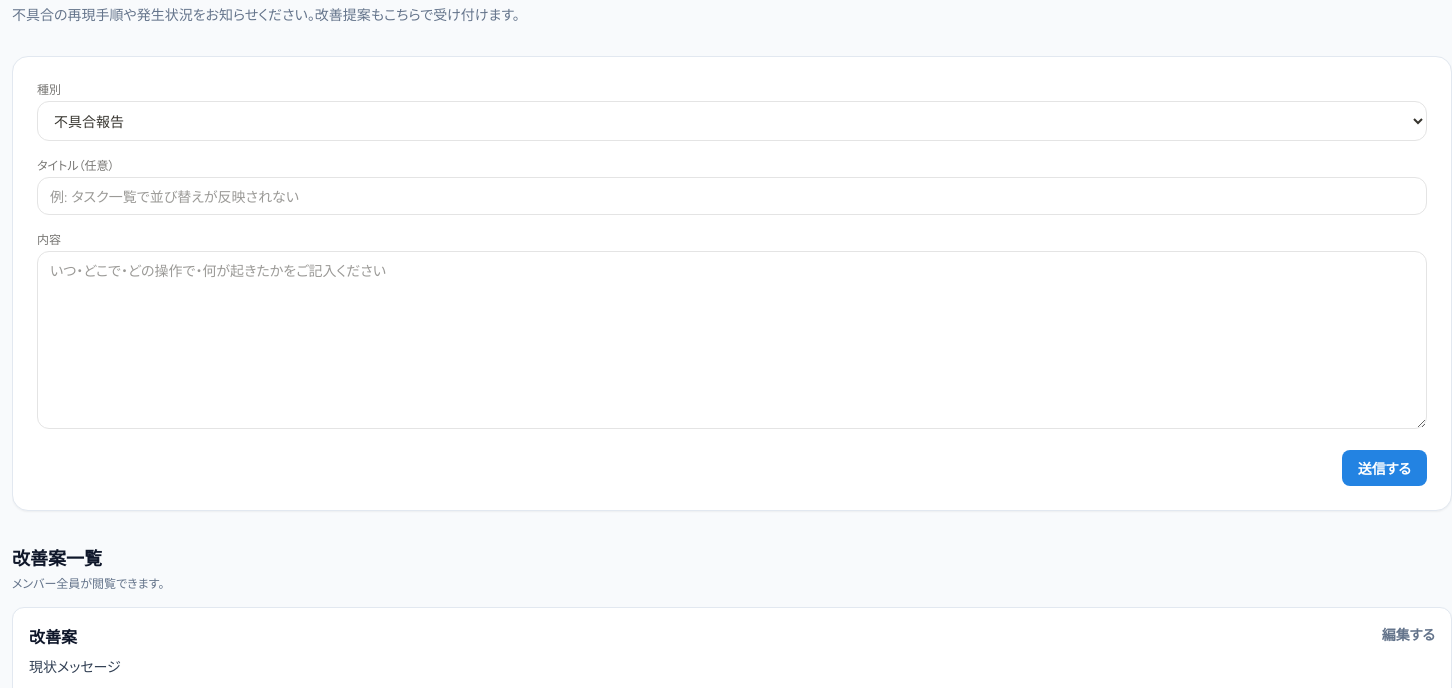
Test: フィードバックページ › 改善案を編集して保存すると一覧に反映される
Click the button "編集する": (1408, 634) left=1382, top=624, right=1435, bottom=644
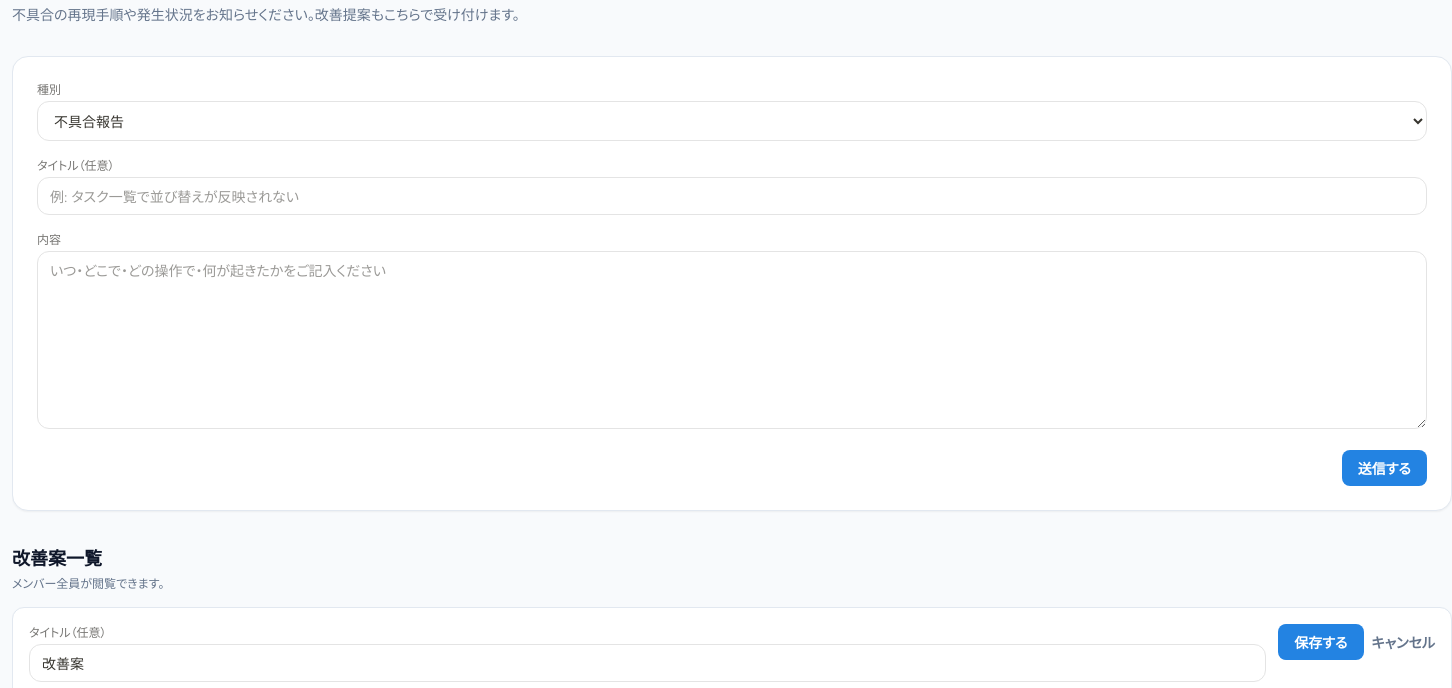
Replace the text in the field labelled "タイトル（任意）" below "メンバー全員が閲覧できます。" with "更新タイトル": (648, 663) left=29, top=644, right=1266, bottom=682
(page scrolled)
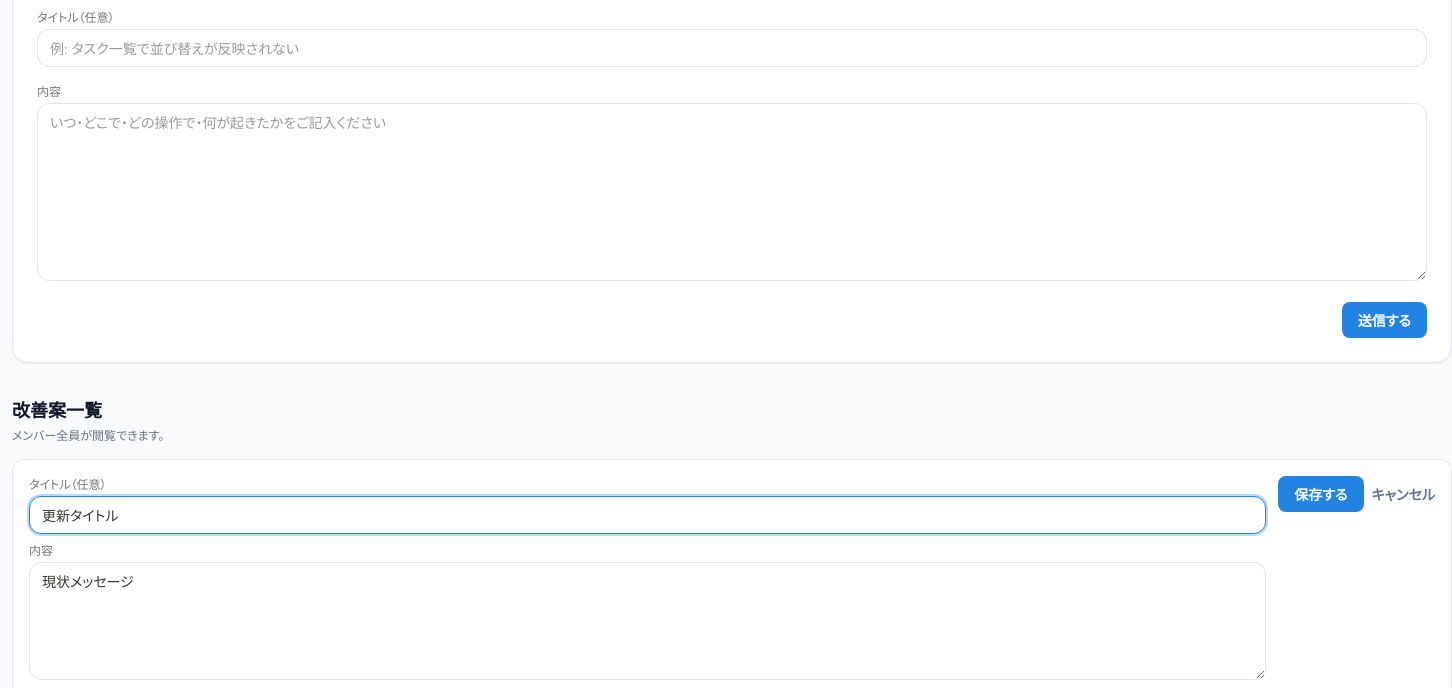
Replace the text in the text box labelled "内容" below "メンバー全員が閲覧できます。" with "更新後メッセージ": (648, 621) left=29, top=562, right=1266, bottom=680
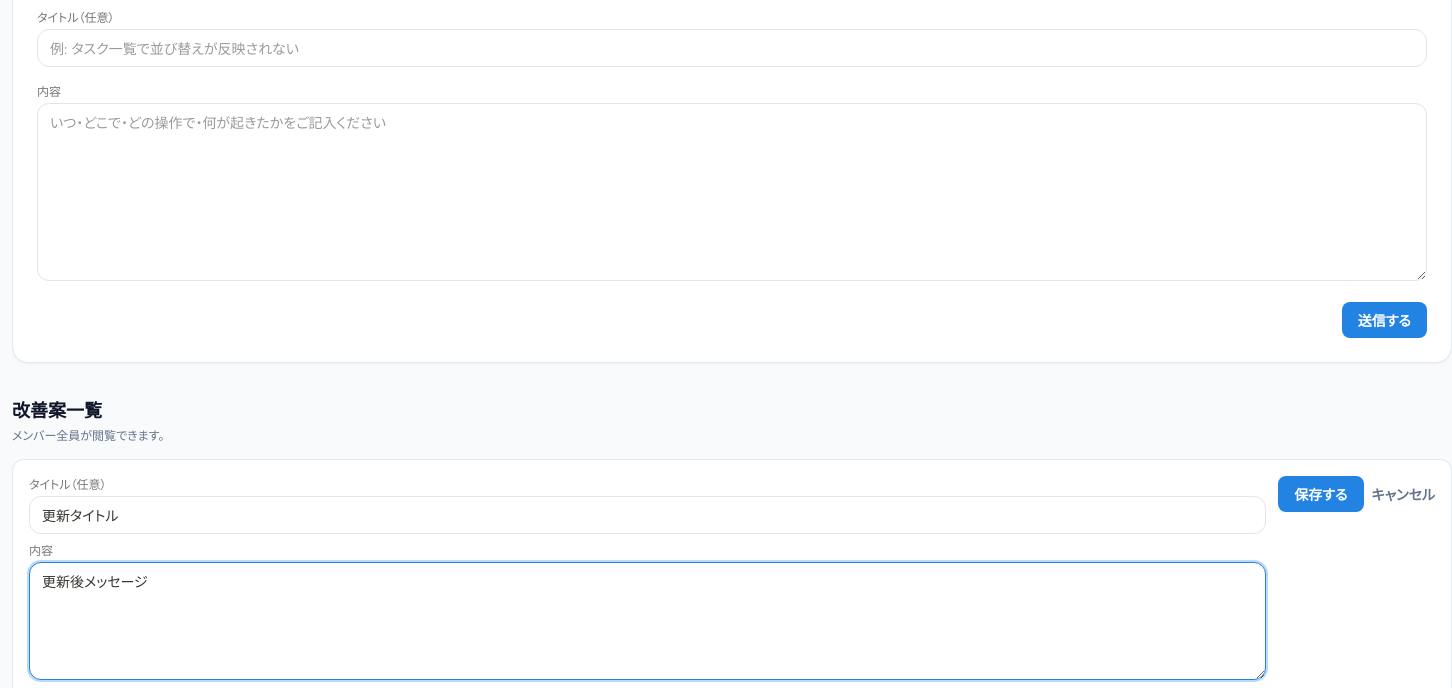
Click the button "保存する": (1321, 494) left=1278, top=476, right=1364, bottom=512
(page scrolled)
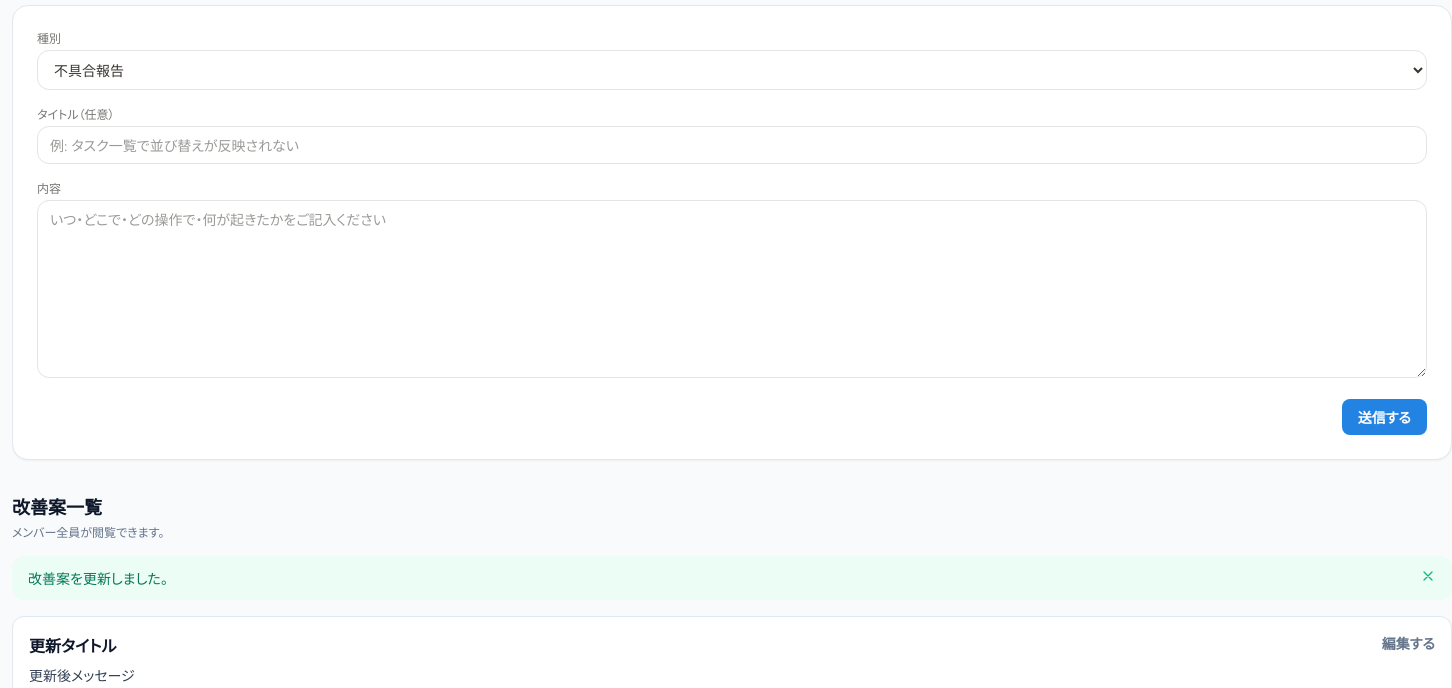
Expected: the text "改善案を更新しました。" is shown, left=28, top=568, right=168, bottom=588
Expected: the text "更新タイトル" is shown, left=29, top=633, right=116, bottom=657
Expected: the text "更新後メッセージ" is shown, left=29, top=665, right=135, bottom=685
